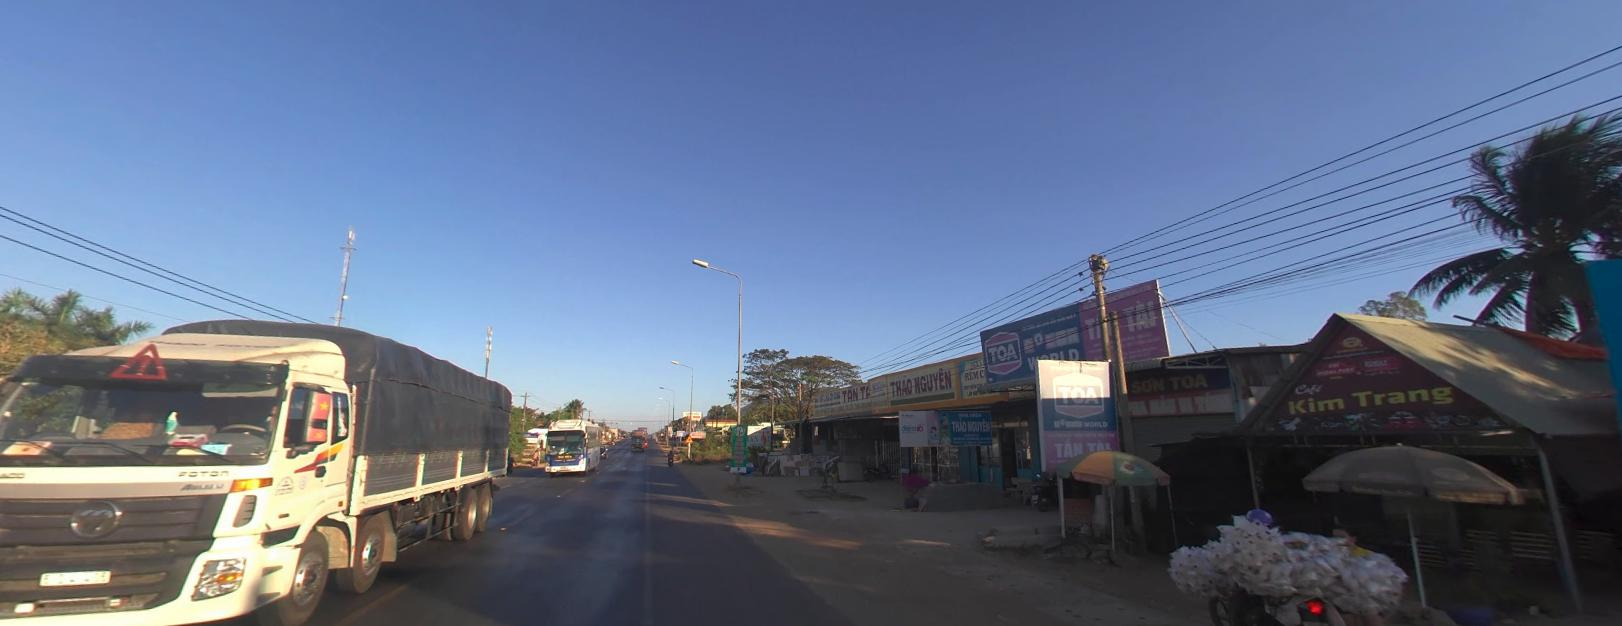Nguy hiem: (684, 433, 694, 442)
